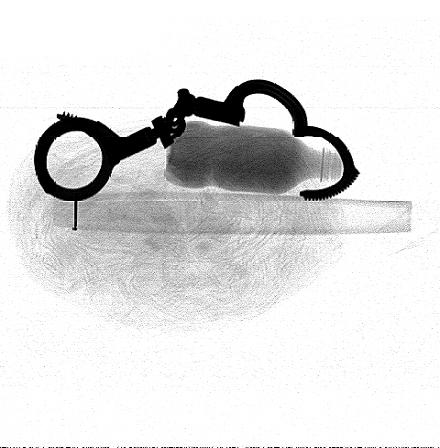HandCuffs: (33, 80, 362, 202)
